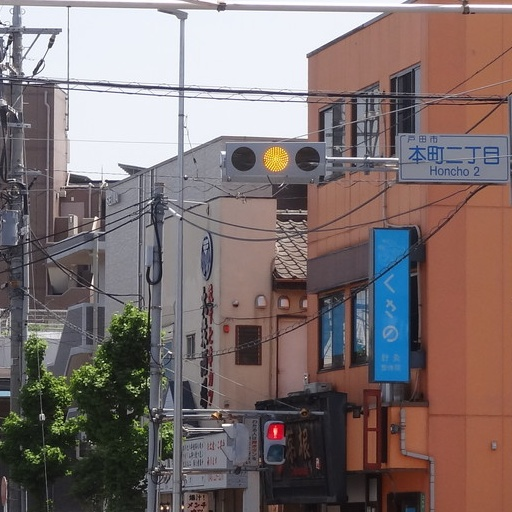Pedestrian_Signal_Red: (260, 420, 290, 462)
Traffic_Signal_Yellow: (210, 131, 332, 187)
